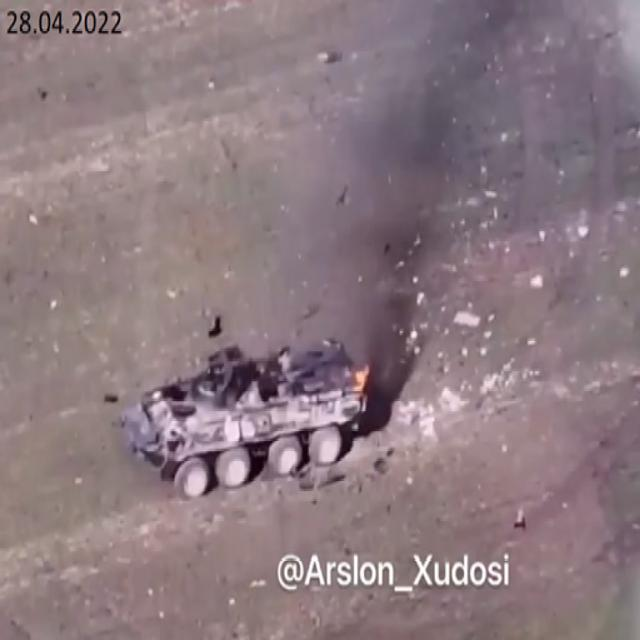APC-IFV: (102, 309, 374, 504)
